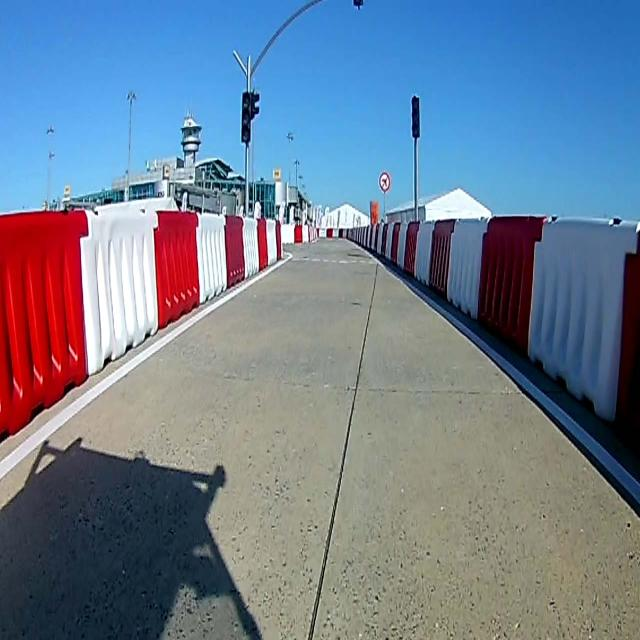soladonulmez: (378, 172, 389, 191)
